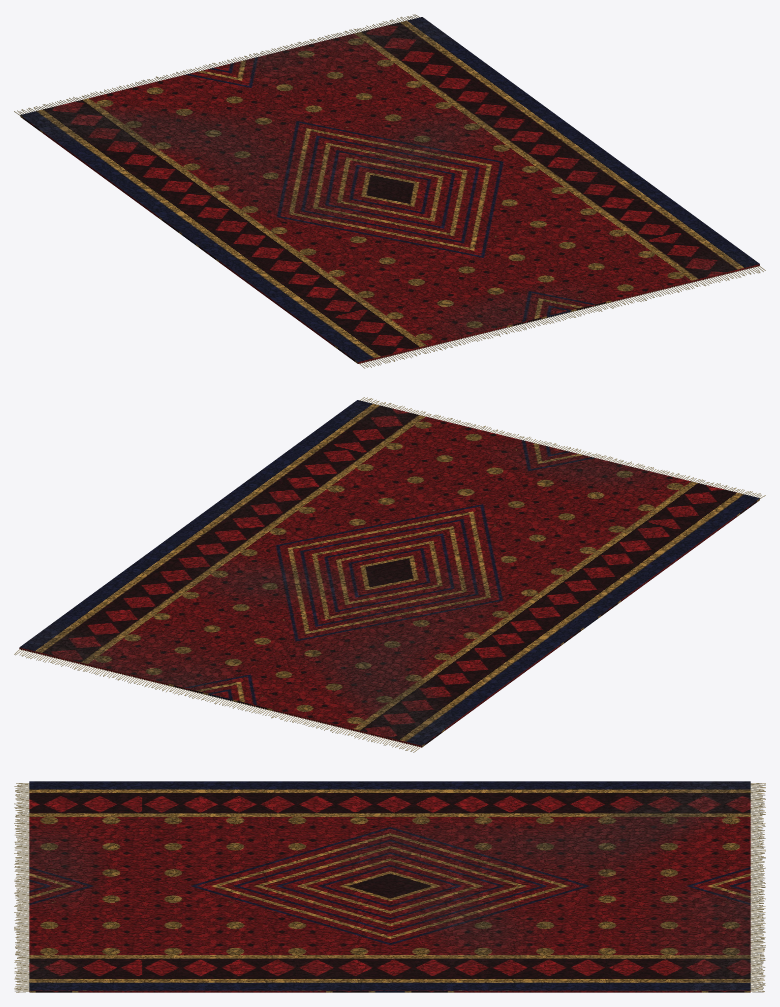
The model's file is Rug_Large.gltf.
3 views of the same model, one above another, from view 1: azimuth 30°, elevation 25°; view 2: azimuth 150°, elevation 25°; view 3: azimuth 270°, elevation 25° (orthographic). The views are drawn at different scales.
Visible parts, largest first — view 1: Rug_Large_Body, Rug_Large_Fringe; view 2: Rug_Large_Body, Rug_Large_Fringe; view 3: Rug_Large_Body, Rug_Large_Fringe.
Boxes of the visible parts, x1,y1,x2,y2 form: Rug_Large_Body: [20, 17, 759, 363]; Rug_Large_Fringe: [14, 14, 765, 368]; Rug_Large_Body: [19, 400, 759, 747]; Rug_Large_Fringe: [14, 397, 765, 752]; Rug_Large_Body: [29, 781, 750, 992]; Rug_Large_Fringe: [14, 783, 765, 992].
Size of the model in its own units: 2.2 by 0.0117 by 3.34.
2 materials, 1 textured.
